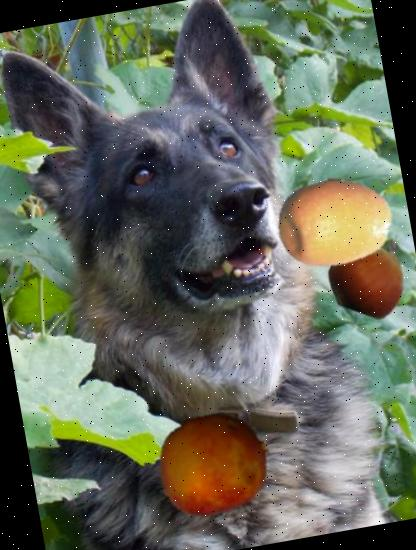Kumquats: (268, 154, 404, 290)
Nut: (321, 234, 411, 324)
Peach: (147, 398, 278, 529)
